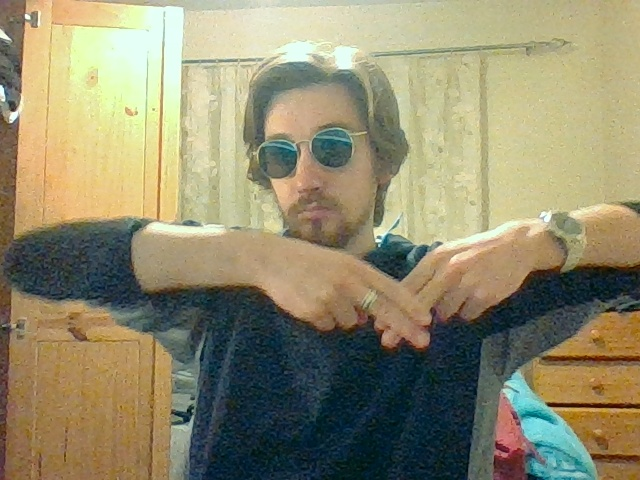father: (351, 242, 464, 352)
